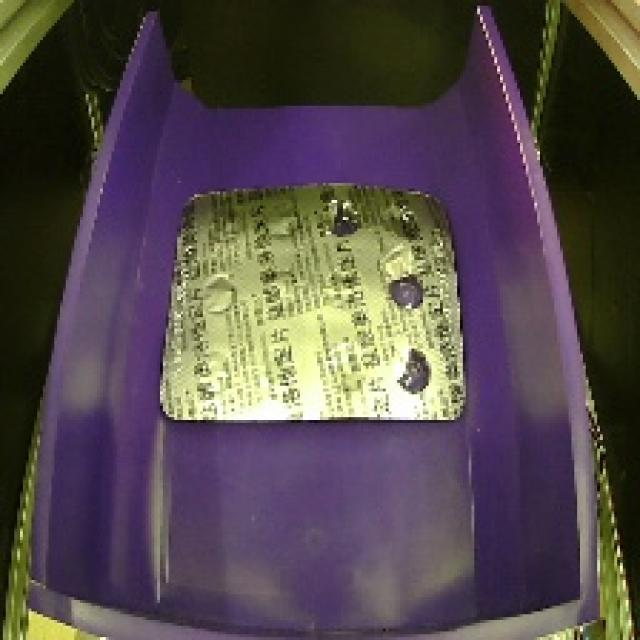med_plate: (150, 166, 481, 445)
